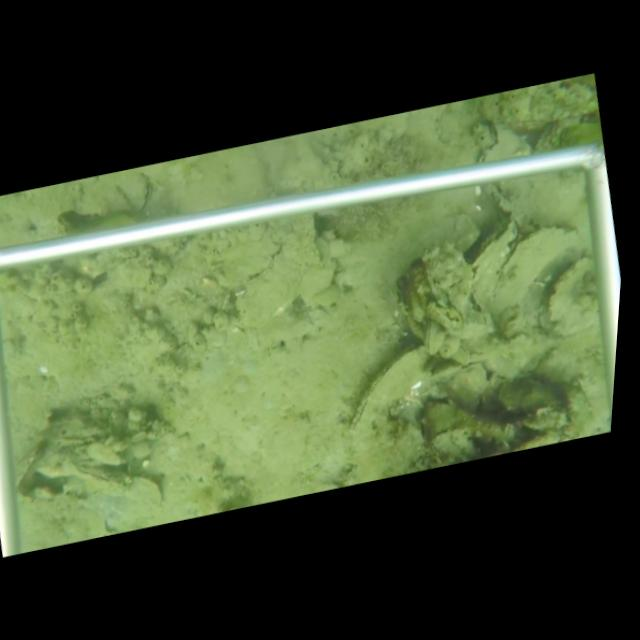Oyster-Closed: (232, 213, 328, 331), (489, 225, 584, 333), (346, 342, 443, 436), (469, 215, 518, 313), (73, 169, 156, 217), (543, 256, 597, 328), (61, 460, 132, 496), (417, 246, 454, 312), (130, 473, 167, 511)
